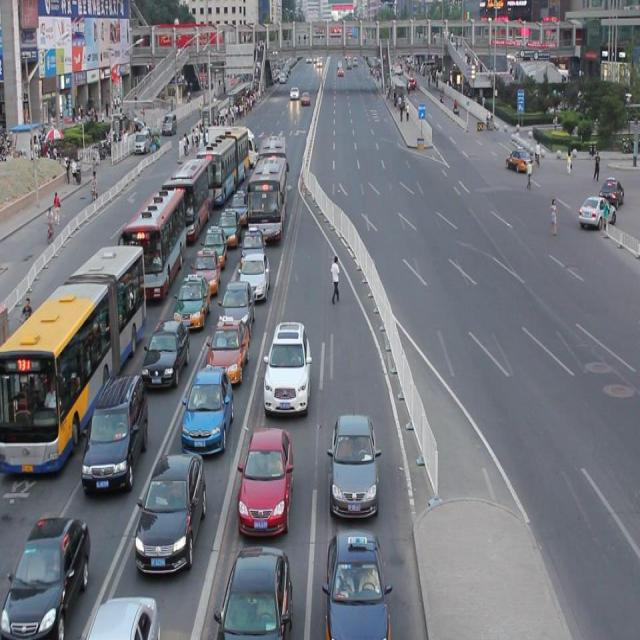bus: (205, 125, 259, 169)
car: (1, 513, 90, 640), (134, 450, 205, 574), (80, 373, 148, 492), (322, 532, 392, 640), (216, 545, 292, 640), (237, 427, 294, 535), (326, 413, 382, 516), (263, 319, 311, 413), (182, 368, 234, 452), (88, 594, 160, 640), (143, 318, 190, 388), (206, 314, 249, 384), (174, 272, 211, 330), (218, 280, 255, 335), (237, 251, 270, 298), (576, 193, 616, 228), (190, 250, 221, 292), (238, 226, 266, 269), (200, 224, 227, 267), (216, 206, 241, 246), (504, 146, 532, 173), (229, 189, 250, 225)
van: (1, 242, 147, 475), (122, 192, 186, 300), (162, 158, 215, 242), (196, 126, 250, 206), (244, 157, 288, 240), (256, 134, 290, 198)
